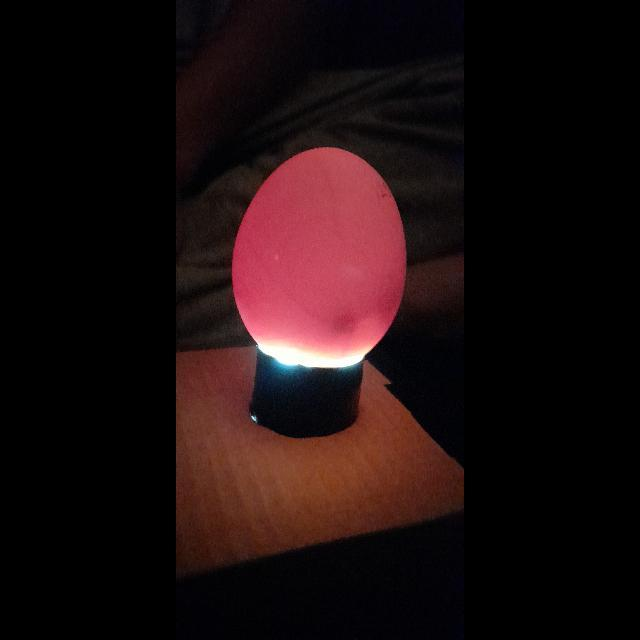Fertile: (230, 142, 410, 368)
